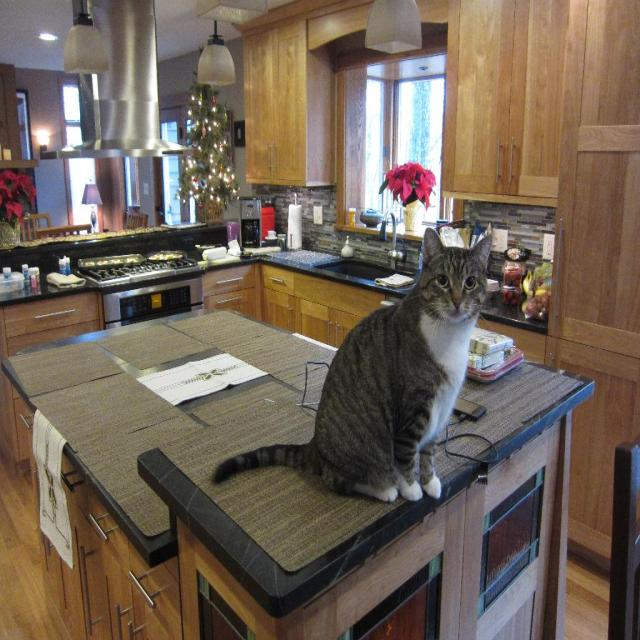Cat: (209, 231, 491, 507)
